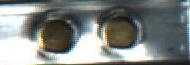joints: (22, 9, 81, 63), (97, 6, 146, 52)
